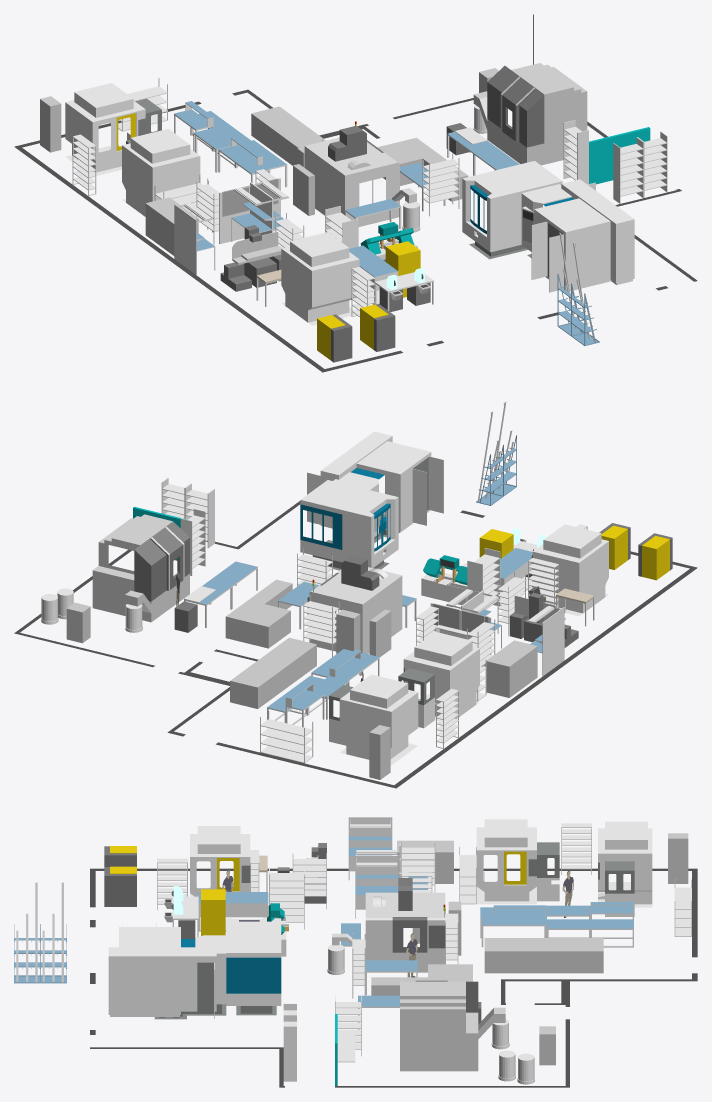
The model's file is workshop02.glb.
3 views of the same model, one above another, from view 1: azimuth 30°, elevation 25°; view 2: azimuth 150°, elevation 25°; view 3: azimuth 270°, elevation 25° (orthographic). The views are drawn at different scales.
Visible parts, largest first — view 1: node-0; view 2: node-0; view 3: node-0.
Part boxes in pixels (box(x1,y1,x2,y2)): node-0: box(14, 14, 697, 372); node-0: box(14, 401, 697, 788); node-0: box(14, 817, 697, 1087).
Size of the model in its own units: 716 by 143 by 944.
